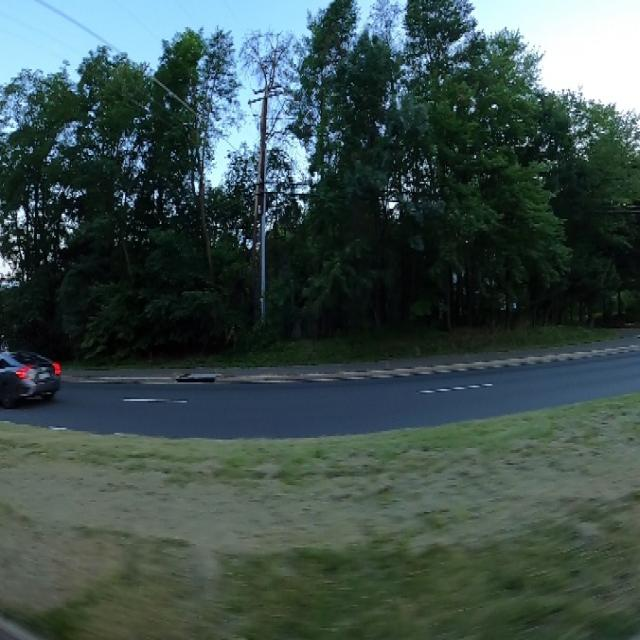cars: (0, 338, 64, 406)
